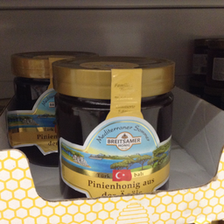honey: (48, 56, 181, 219)
